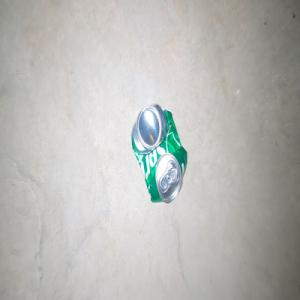SodaCan: (130, 103, 187, 203)
